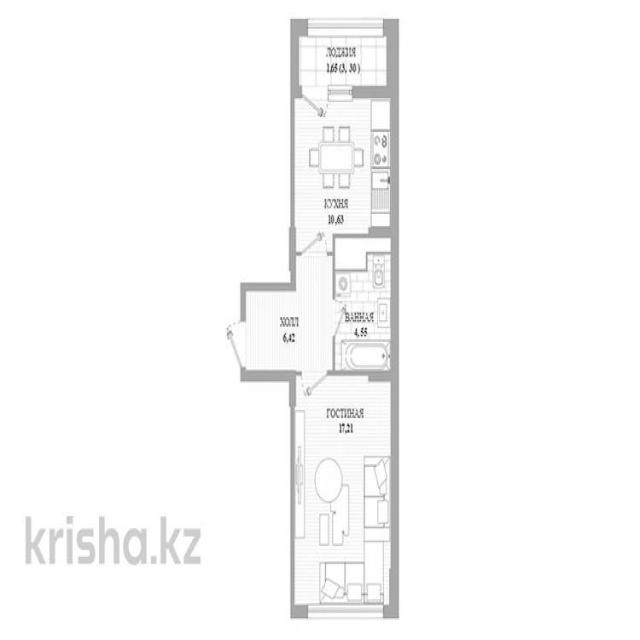balcony: (297, 25, 392, 95)
bathroom: (336, 250, 395, 374)
hallway: (244, 290, 330, 369)
kitchen: (294, 99, 398, 238)
living_room: (291, 379, 395, 607)
